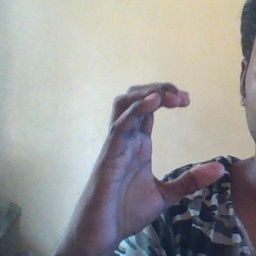C: (100, 78, 229, 208)
